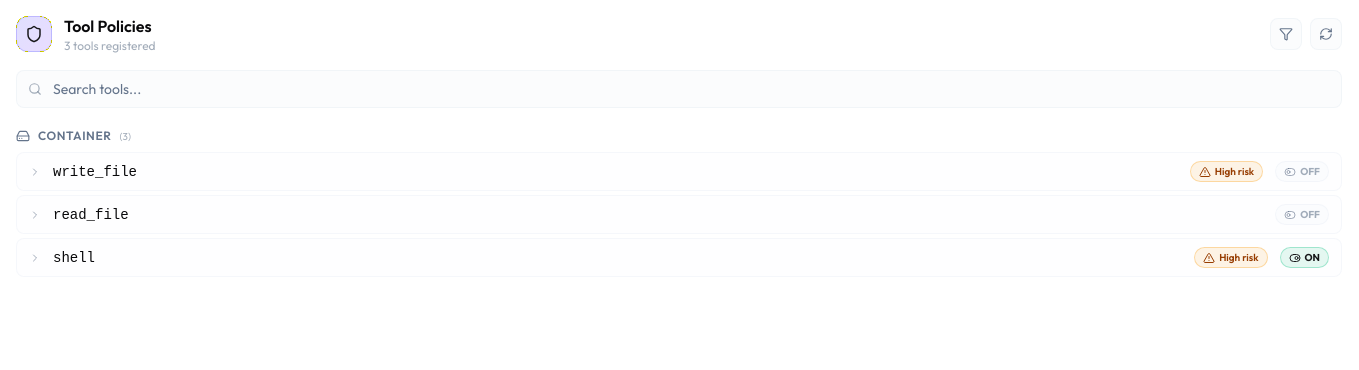
Test case: ThinClawToolPolicies › keeps prior state and surfaces an accessible error when persistence fails
The image size is (1359, 370).
What coordinates should you click on to do the following:
click the button with aria-label "Enable read_file"
I would click on:
 (1302, 214)
Its box is [1275,204,1329,225].
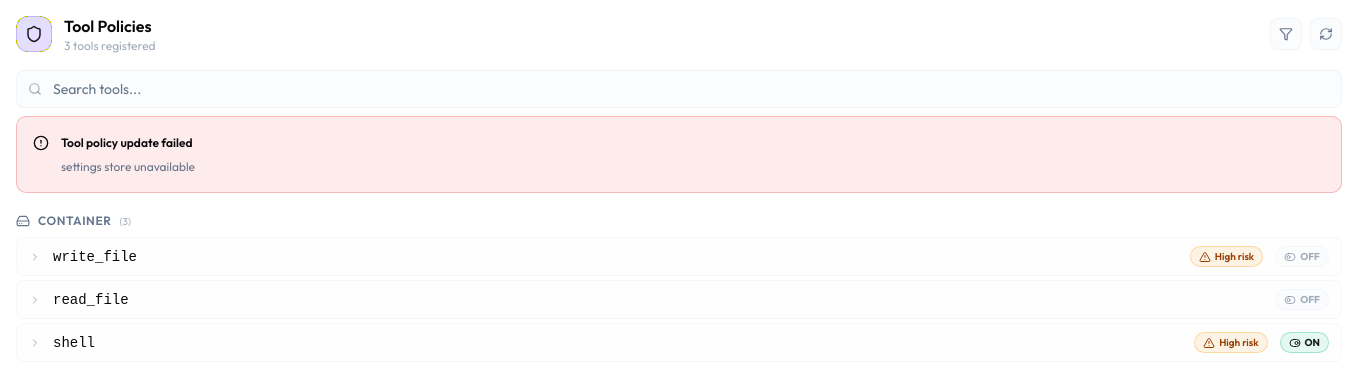
Expected: the button with aria-label "Enable read_file" is shown, [1275,289,1329,310]
Result: the message shows "settings store unavailable" at [61,158,195,174]
